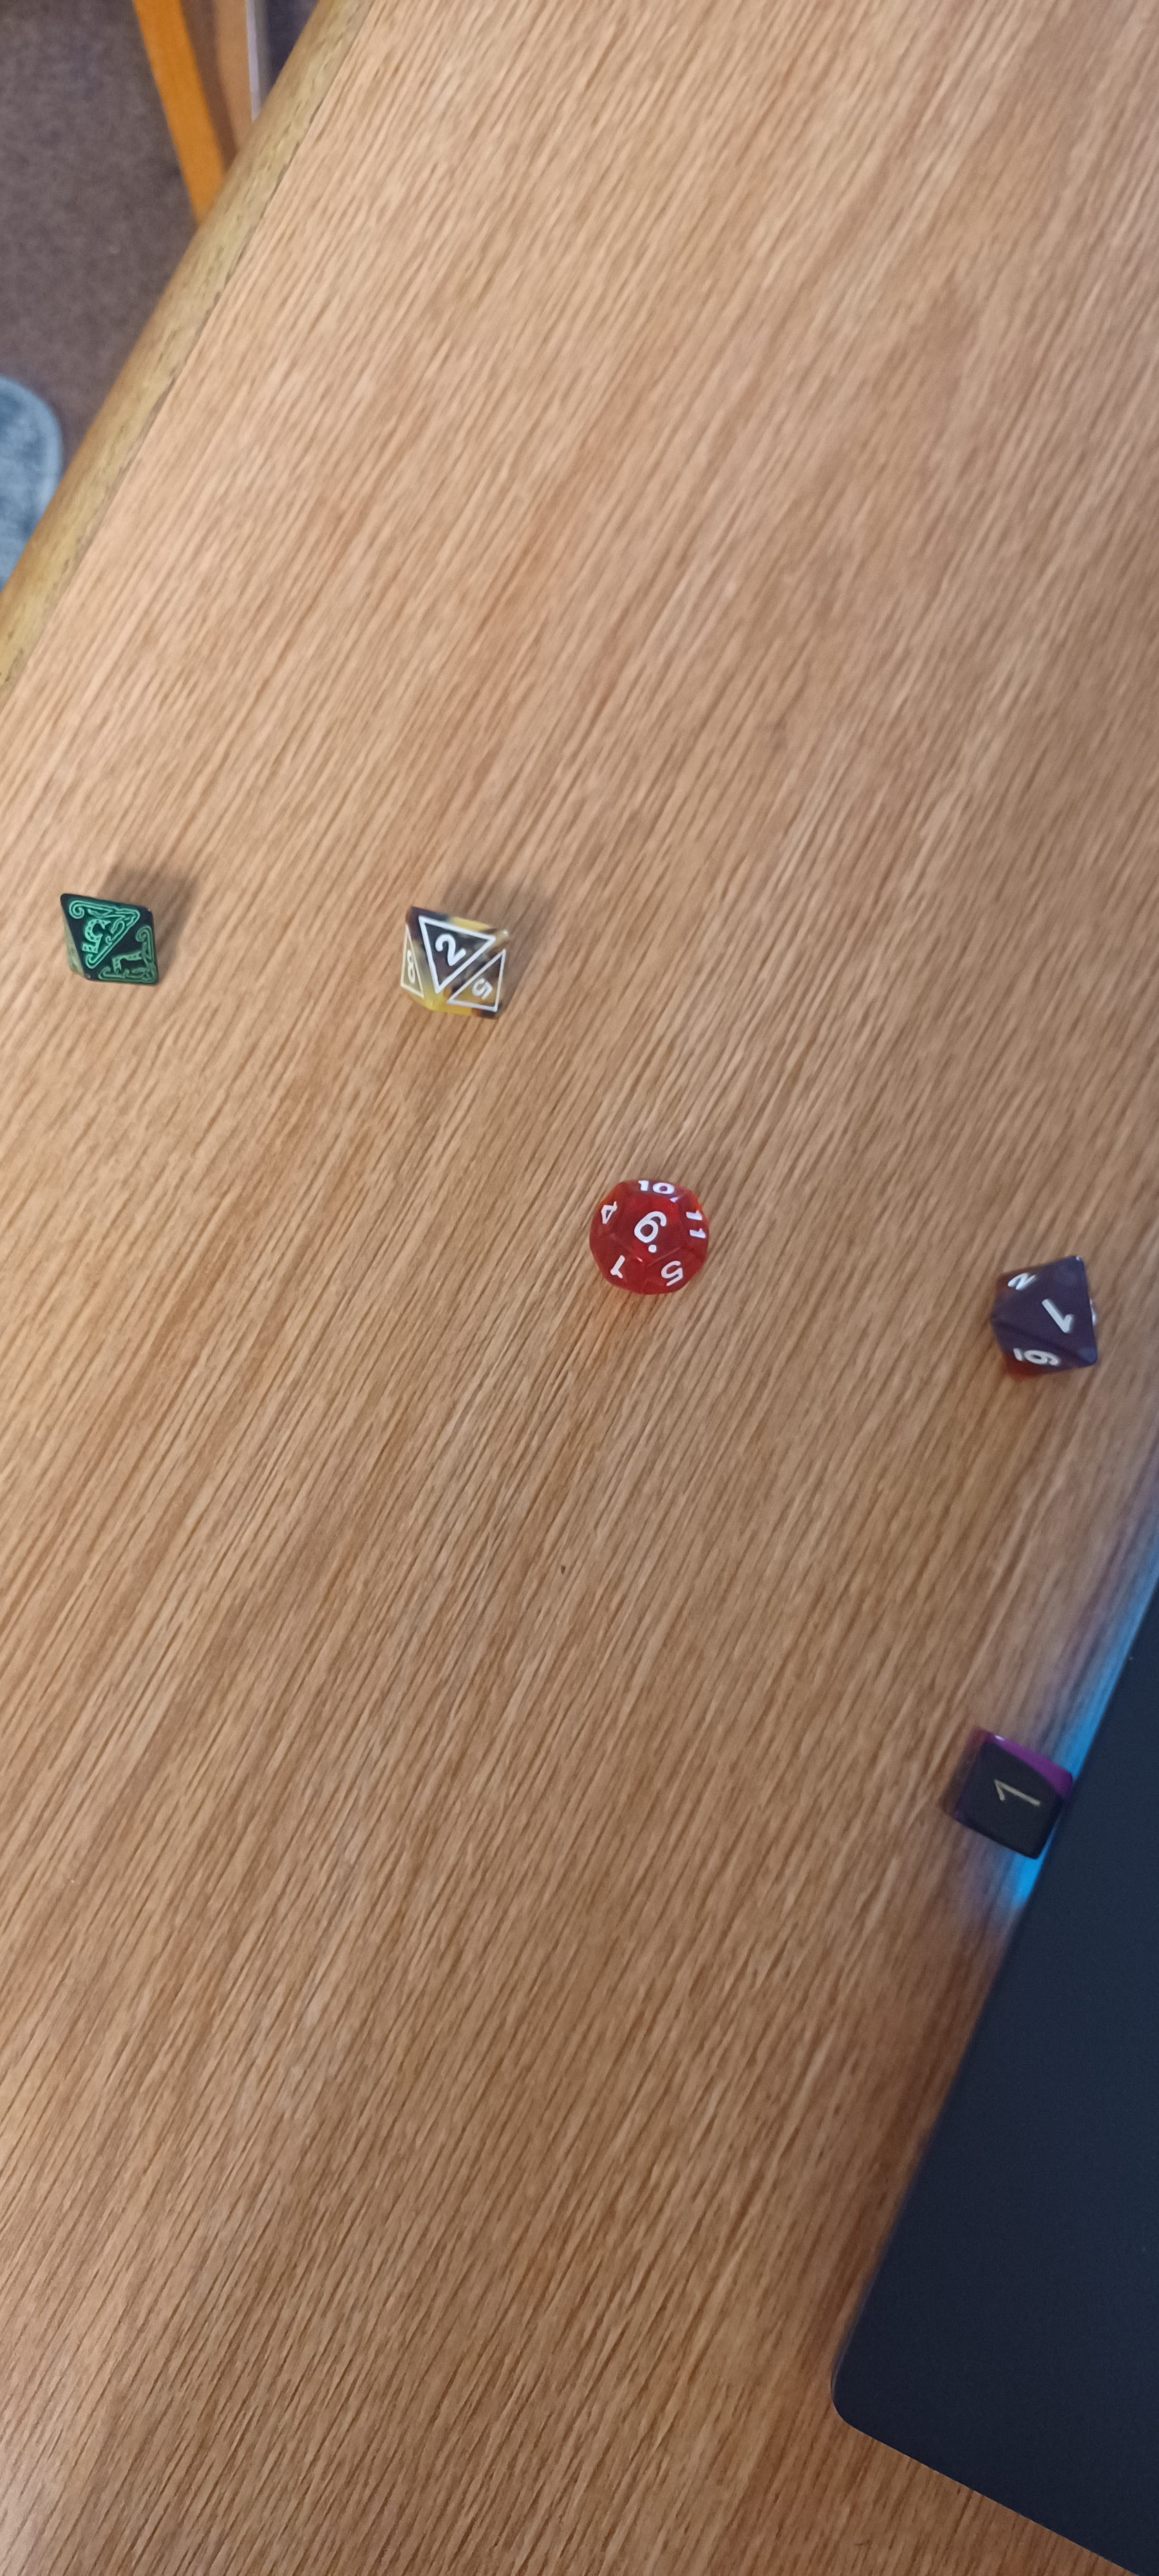five: (31, 867, 189, 1007)
one: (908, 1676, 1123, 1893), (978, 1229, 1115, 1396)
six: (555, 1148, 732, 1332)
two: (368, 879, 553, 1058)
